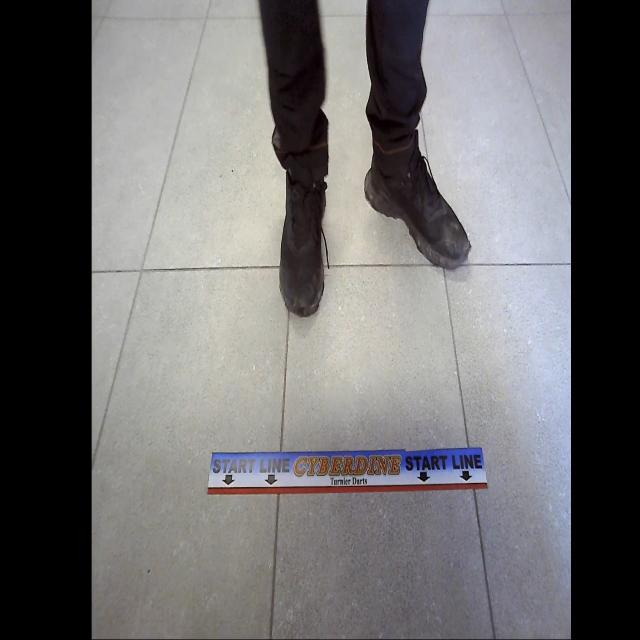foot: (364, 129, 471, 270), (278, 168, 326, 317)
